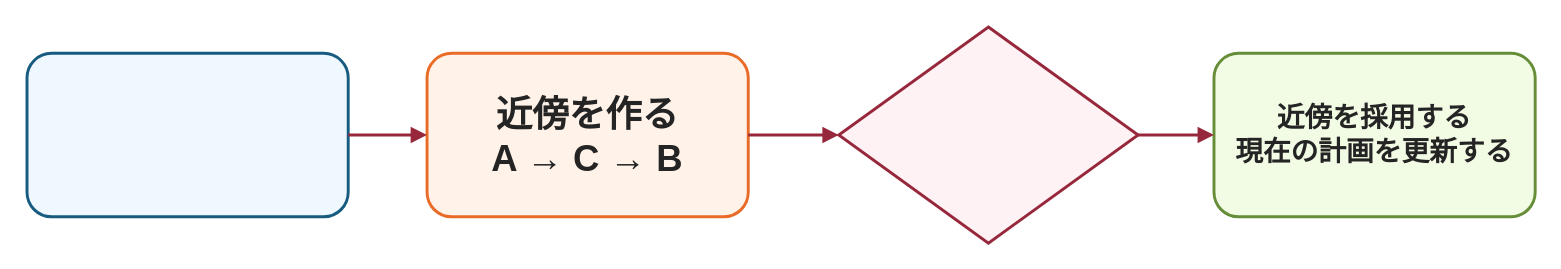
The diagram is 1561 pixels wide and 269 high, and some of its shapes have lost their labels. Here are the shapes that lost their labels. From the top down, the box of each, then its label:
(25, 51, 349, 218): 現在の計画 A → B → C
(837, 25, 1139, 244): 評価を比較
